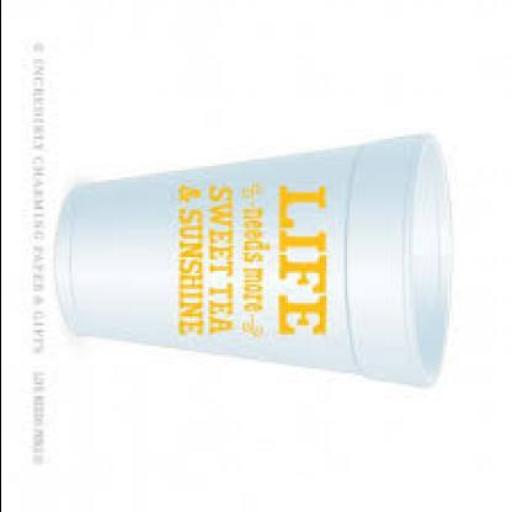paper: (54, 134, 453, 383)
